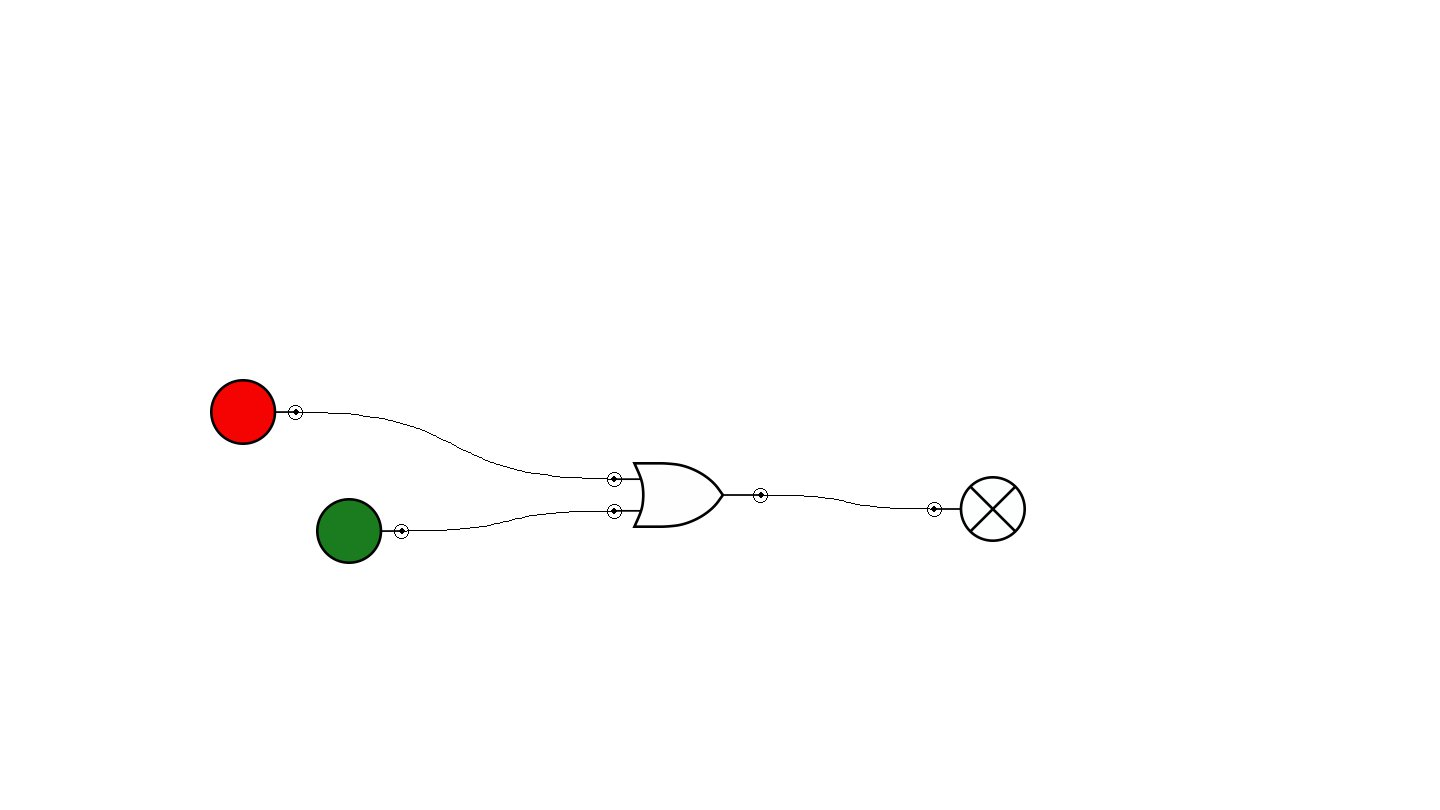bulb: (927, 476, 1026, 542)
or: (607, 462, 768, 528)
switch_False: (210, 379, 303, 445)
switch_True: (316, 498, 409, 564)
